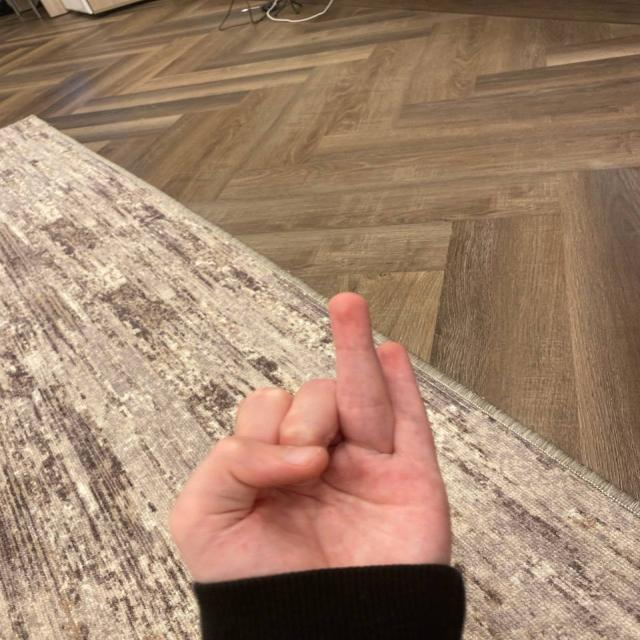i: (185, 315, 531, 555)
